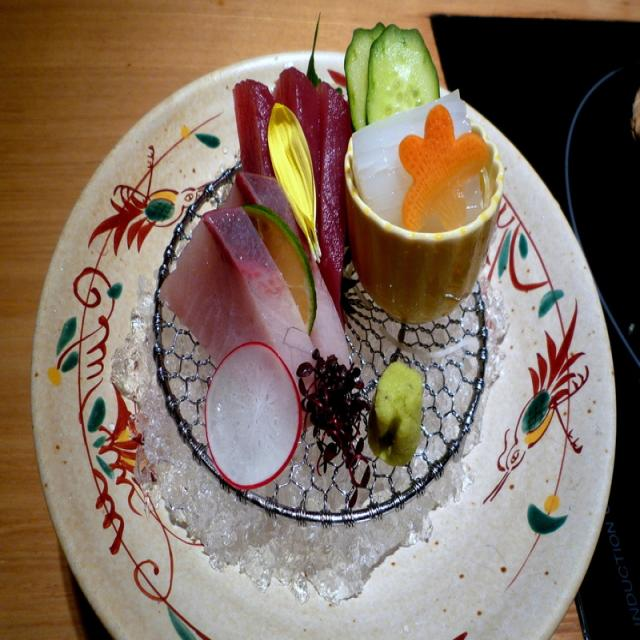刺身生食: (130, 0, 504, 560)
